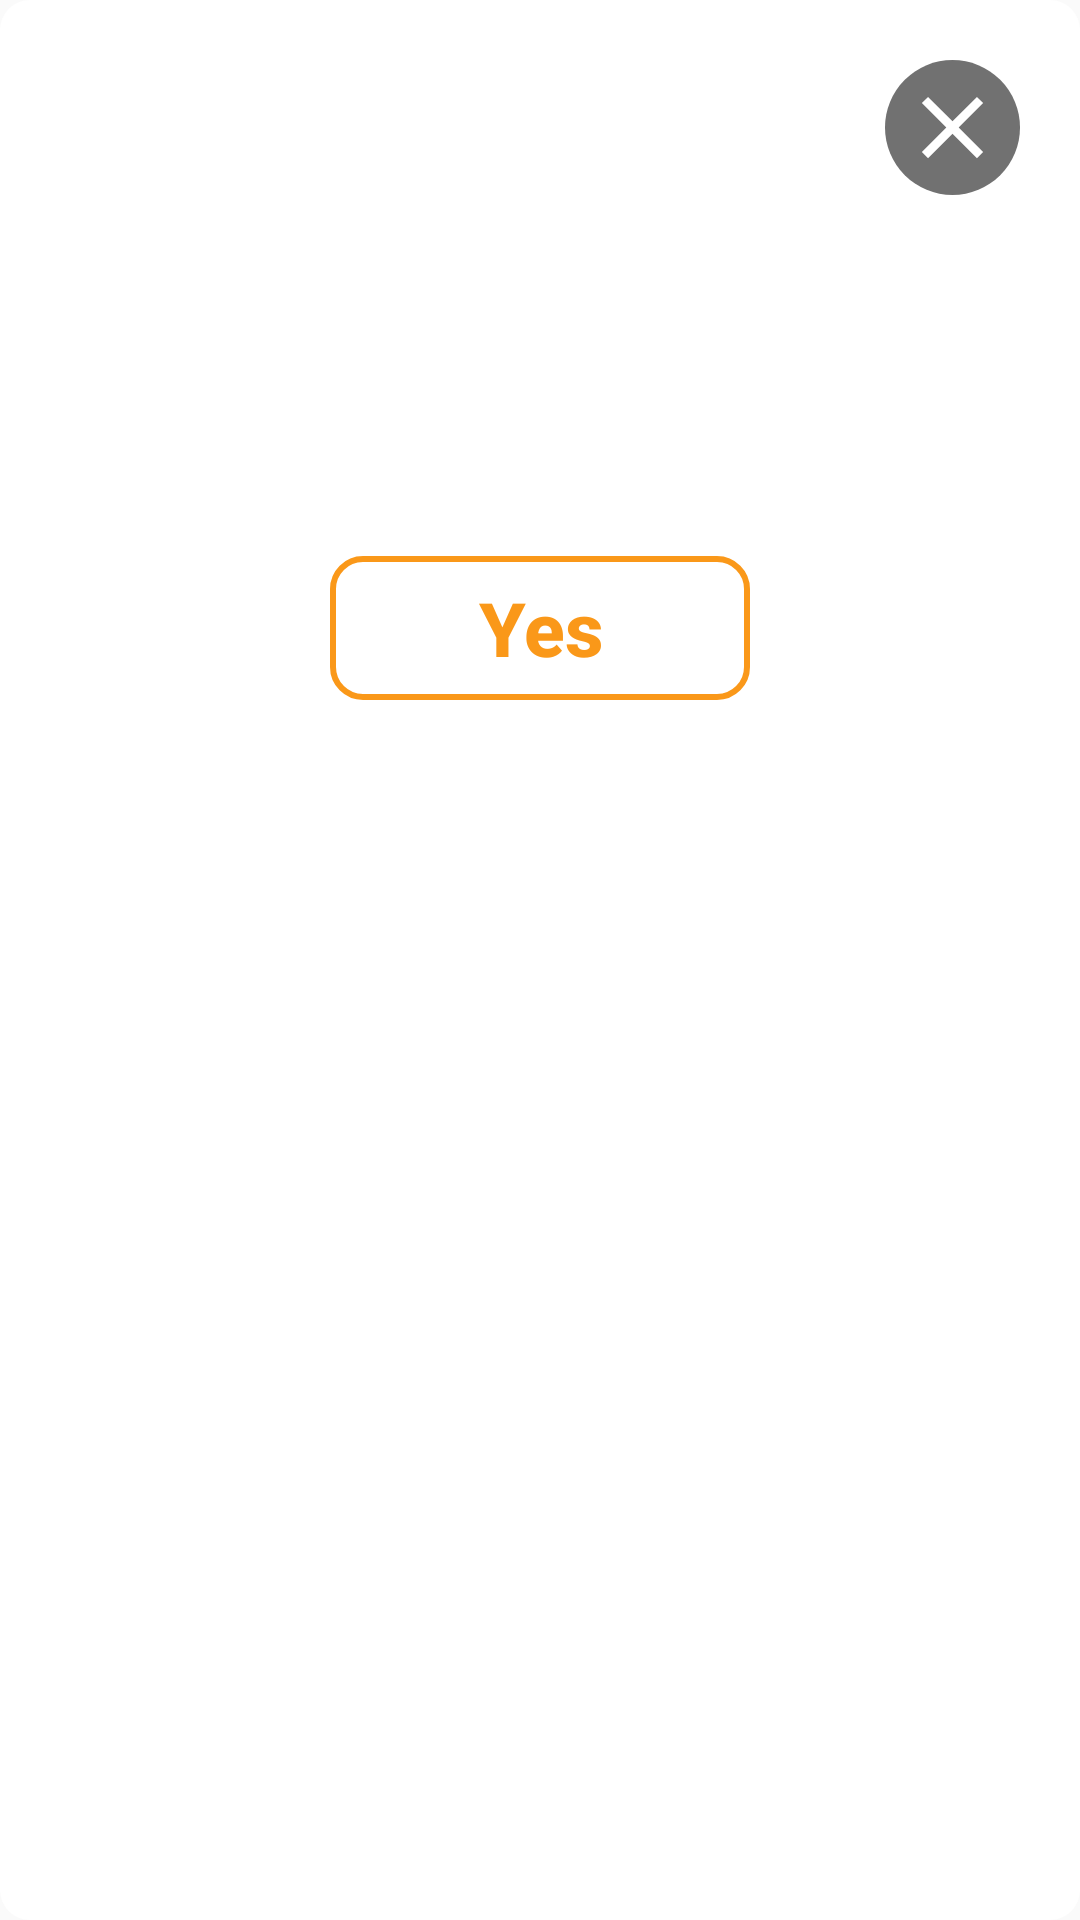

Point at icon controls on the screen. Image size 1080 × 1920, points as point (x, y).
Close Button: point (952, 127)
